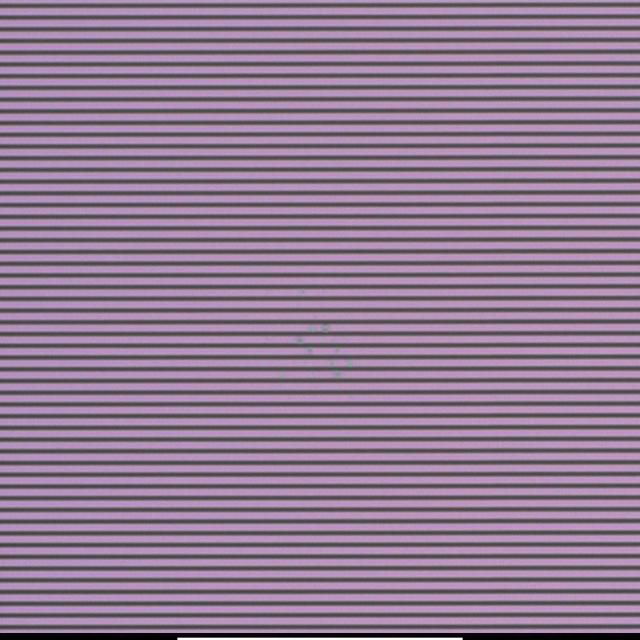nonvisual: (276, 314, 353, 384)
